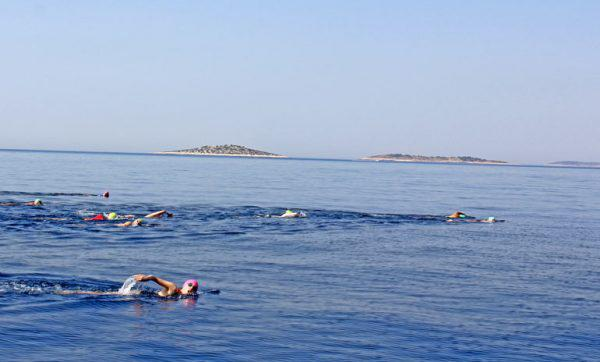swimmer: (127, 271, 200, 302)
